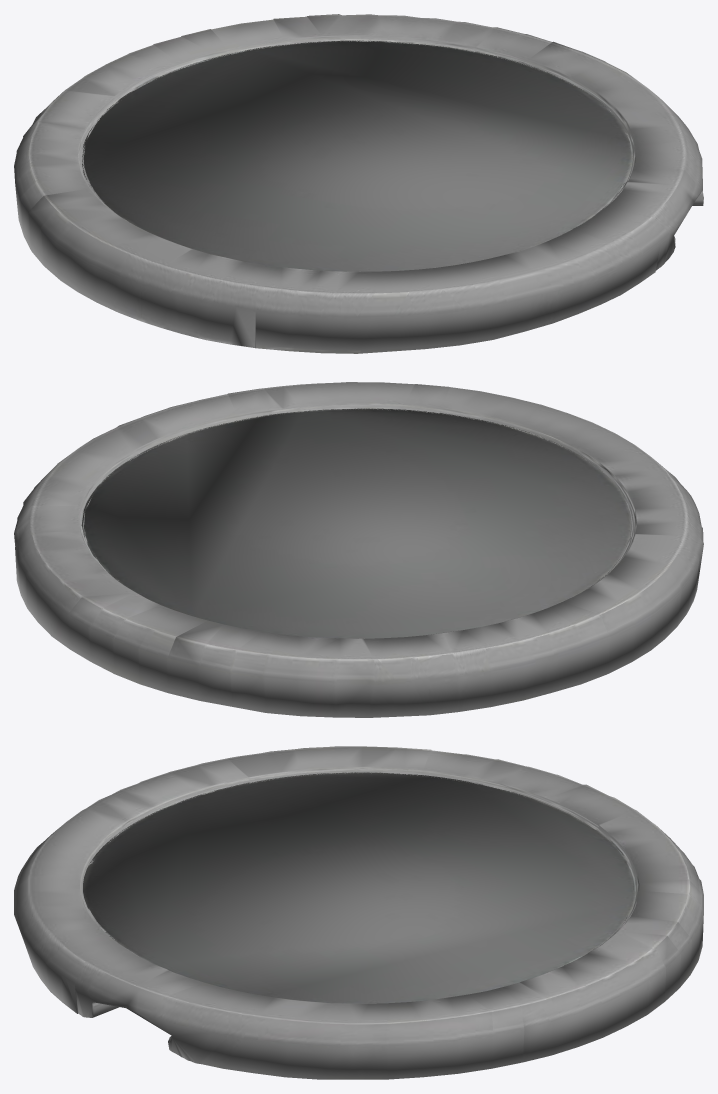
Rendered from bezel-gen.glb.
3 views of the same model, one above another, from view 1: azimuth 30°, elevation 25°; view 2: azimuth 150°, elevation 25°; view 3: azimuth 270°, elevation 25° (orthographic).
Visible parts, largest first — view 1: tripo_node_ae847c48-0f91-4249-bc32-345393837fd9; view 2: tripo_node_ae847c48-0f91-4249-bc32-345393837fd9; view 3: tripo_node_ae847c48-0f91-4249-bc32-345393837fd9.
Boxes of the visible parts, <box> form: tripo_node_ae847c48-0f91-4249-bc32-345393837fd9: <box>14,14,703,353</box>; tripo_node_ae847c48-0f91-4249-bc32-345393837fd9: <box>14,382,703,717</box>; tripo_node_ae847c48-0f91-4249-bc32-345393837fd9: <box>14,746,703,1079</box>.
Bounding box in the file's own units: 0.3262 × 0.03 × 0.3262.
Materials: 1 (1 with a texture image).
